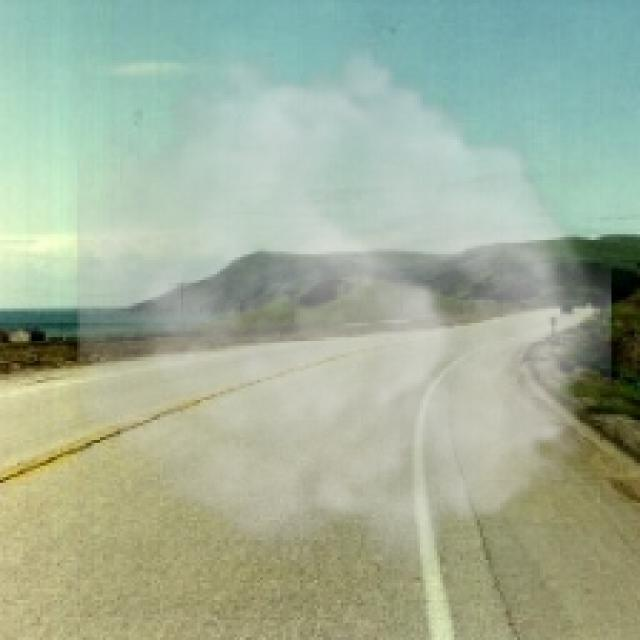Smoke: (77, 28, 612, 583)
